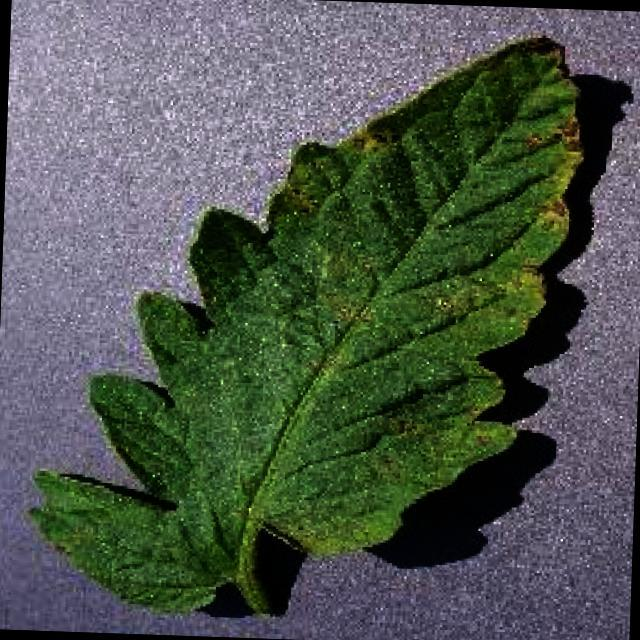Tomato Septoria spot leaf: (29, 22, 586, 627)
